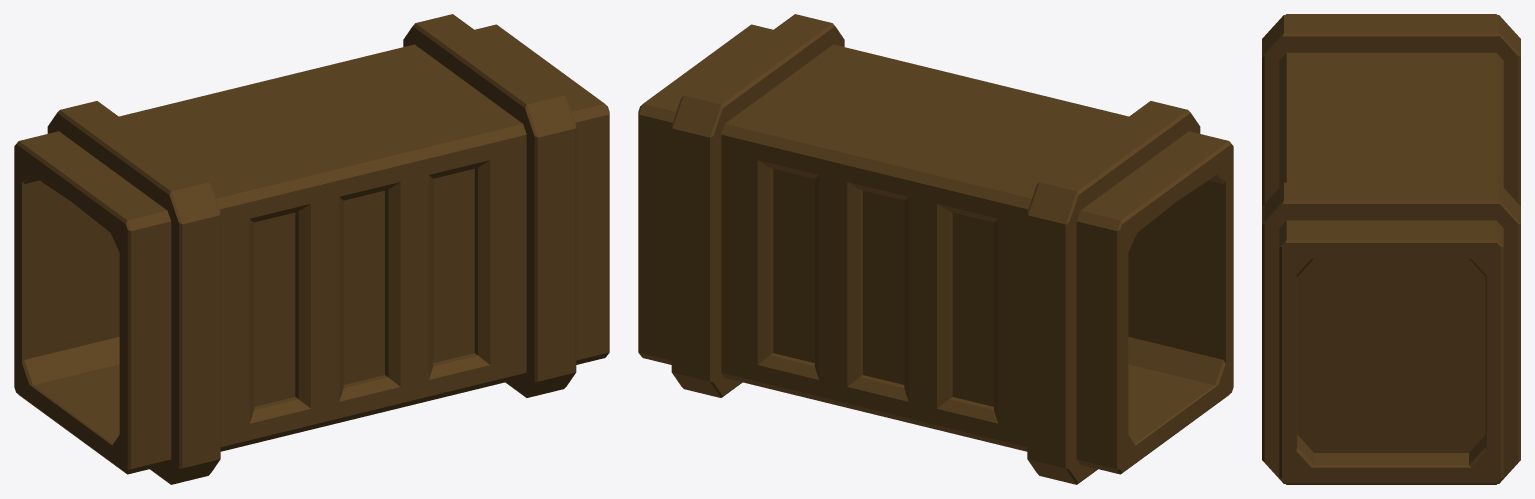
The model's file is Crate.fbx.
3 views of the same model, side by side, from view 1: azimuth 30°, elevation 25°; view 2: azimuth 150°, elevation 25°; view 3: azimuth 270°, elevation 25° (orthographic). The views are drawn at different scales.
Parts seen in each view (by area): view 1: Cube; view 2: Cube; view 3: Cube.
Boxes of the visible parts, left/top/right/bottom form: Cube: left=14, top=14, right=609, bottom=484; Cube: left=638, top=14, right=1233, bottom=484; Cube: left=1262, top=14, right=1520, bottom=484.
Bounding box in the file's own units: 397 × 231 × 191.
